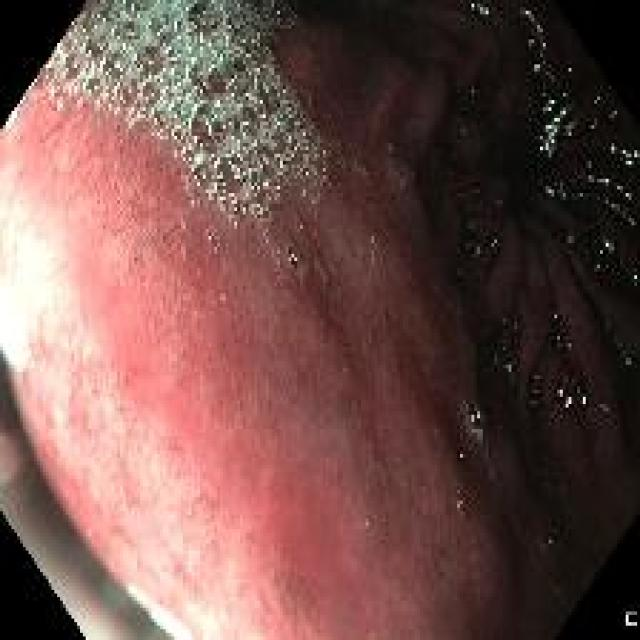bubbles: (41, 7, 318, 223), (364, 223, 385, 267), (282, 240, 306, 274), (200, 219, 220, 255), (463, 398, 484, 429), (538, 530, 556, 556), (551, 576, 569, 601)
contrast: (380, 7, 634, 500)
saturation: (83, 518, 282, 631), (1, 159, 79, 389)
specularity: (43, 5, 329, 223), (514, 7, 581, 166), (126, 579, 193, 637), (580, 72, 626, 132), (548, 373, 594, 417), (602, 129, 634, 180), (547, 309, 578, 354), (583, 157, 616, 189), (597, 232, 622, 263), (611, 179, 632, 206), (541, 177, 559, 201), (619, 202, 635, 229), (467, 5, 495, 20), (485, 235, 506, 253), (595, 392, 612, 414), (455, 488, 463, 519), (287, 249, 300, 267), (454, 446, 466, 465), (504, 361, 517, 376), (565, 232, 577, 248), (474, 245, 484, 260), (206, 233, 216, 247), (511, 321, 519, 330)
